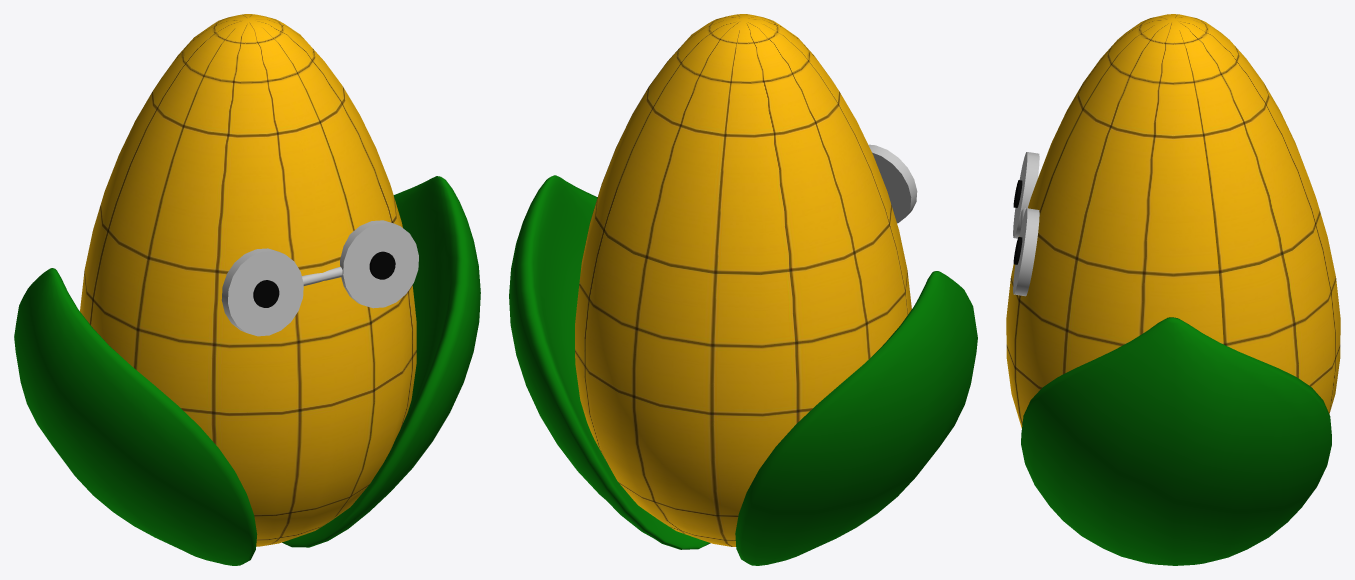
The model's file is baby_corn.fbx.
The picture shows the model from 3 angles, left to right: view 1: azimuth 30°, elevation 25°; view 2: azimuth 150°, elevation 25°; view 3: azimuth 270°, elevation 25°; orthographic projection.
Parts seen in each view (by area): view 1: body1, right_leaf, left_leaf, glasses1, left_eye, right_eye; view 2: body1, right_leaf, left_leaf, glasses1; view 3: body1, left_leaf, glasses1.
Part boxes in pixels (x1,y1,x2,y2): body1: (80,14,416,546); right_leaf: (14,268,257,565); left_leaf: (282,176,480,547); glasses1: (221,220,418,336); left_eye: (369,251,395,279); right_eye: (253,280,279,307); body1: (575,14,911,546); right_leaf: (735,271,977,565); left_leaf: (509,175,710,549); glasses1: (868,144,917,223); body1: (1006,14,1340,428); left_leaf: (1021,317,1331,565); glasses1: (1013,152,1039,296).
Bounding box in the file's own units: 2.83 × 3.32 × 1.9.
6 materials, 1 textured.
